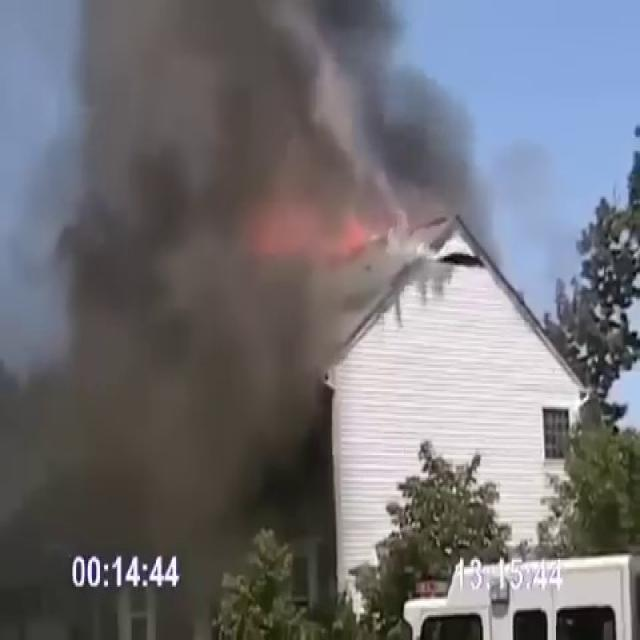Smoke: (7, 1, 477, 586)
